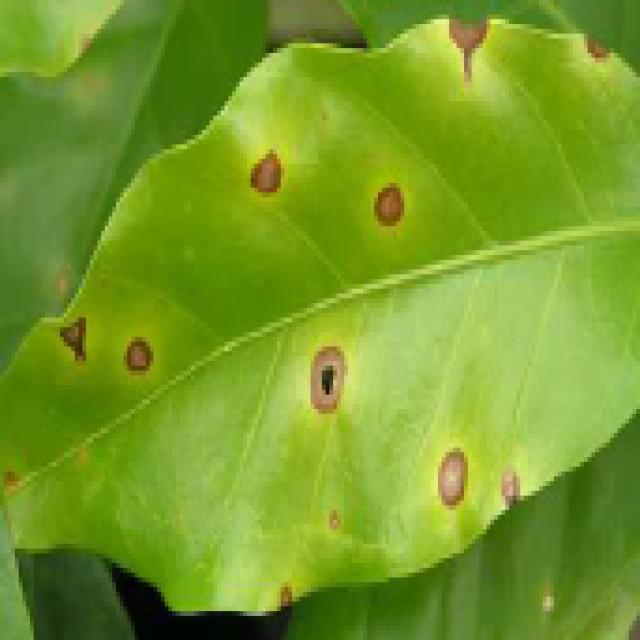Enfermedad-Mancha-de-hierro: (0, 0, 640, 640)
